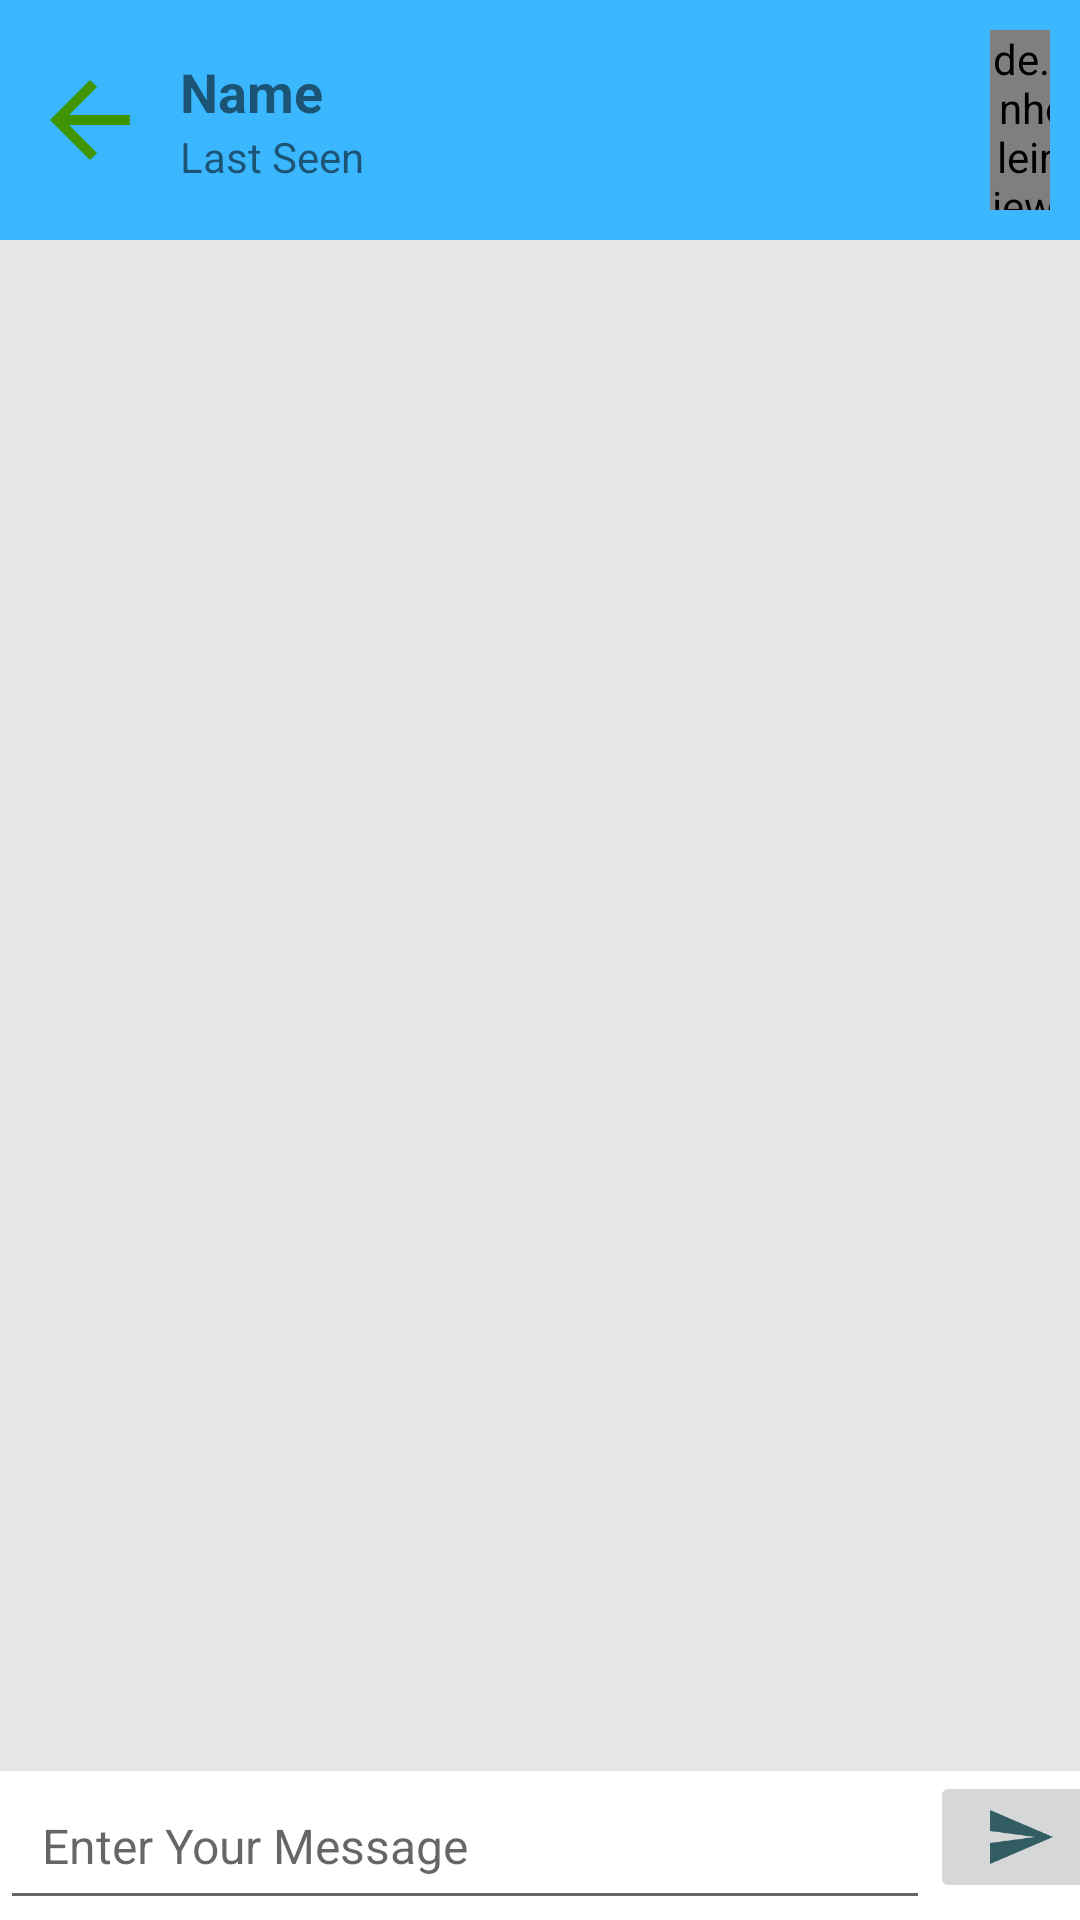

Where to tap for icons on this 1080 x 1920 app screen, as (x=x, y=y):
arrow back: (x=90, y=120)
